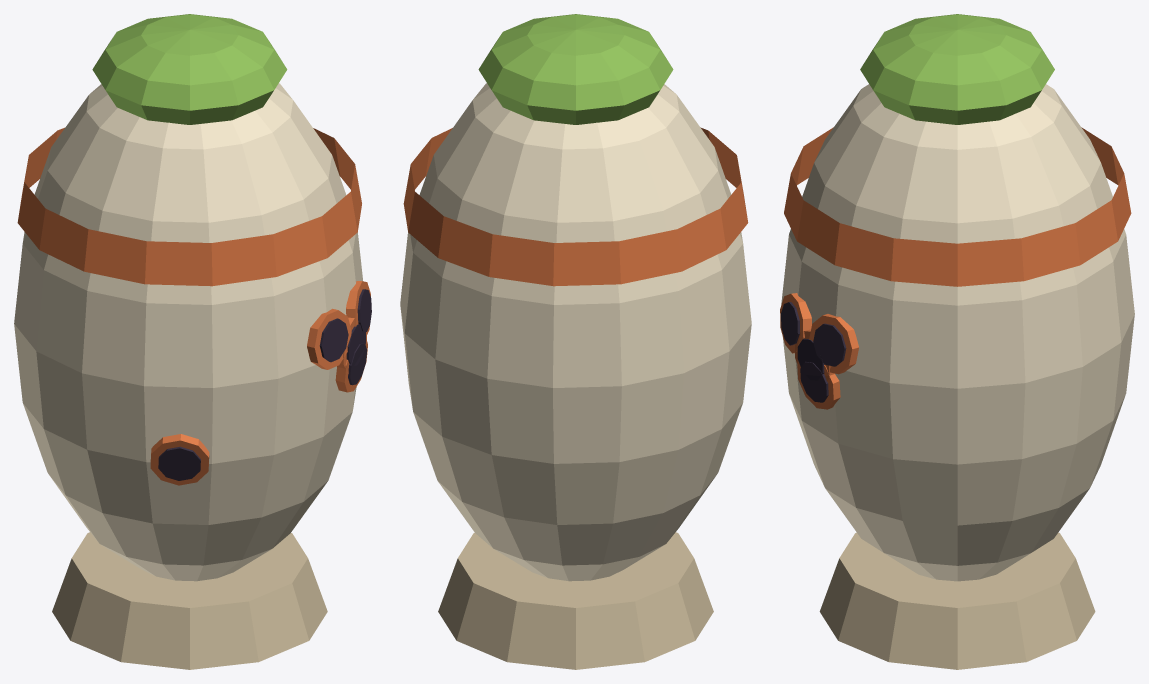
The model's file is tower_pod.glb.
3 views of the same model, side by side, from view 1: azimuth 30°, elevation 25°; view 2: azimuth 150°, elevation 25°; view 3: azimuth 270°, elevation 25° (orthographic).
Visible parts, largest first — view 1: tower_pod; view 2: tower_pod; view 3: tower_pod.
Part boxes in pixels (box(x1,y1,x2,y2)): tower_pod: box(14, 14, 371, 669); tower_pod: box(400, 14, 751, 669); tower_pod: box(780, 14, 1134, 669).
Size of the model in its own units: 7.2 by 13.03 by 7.2.
